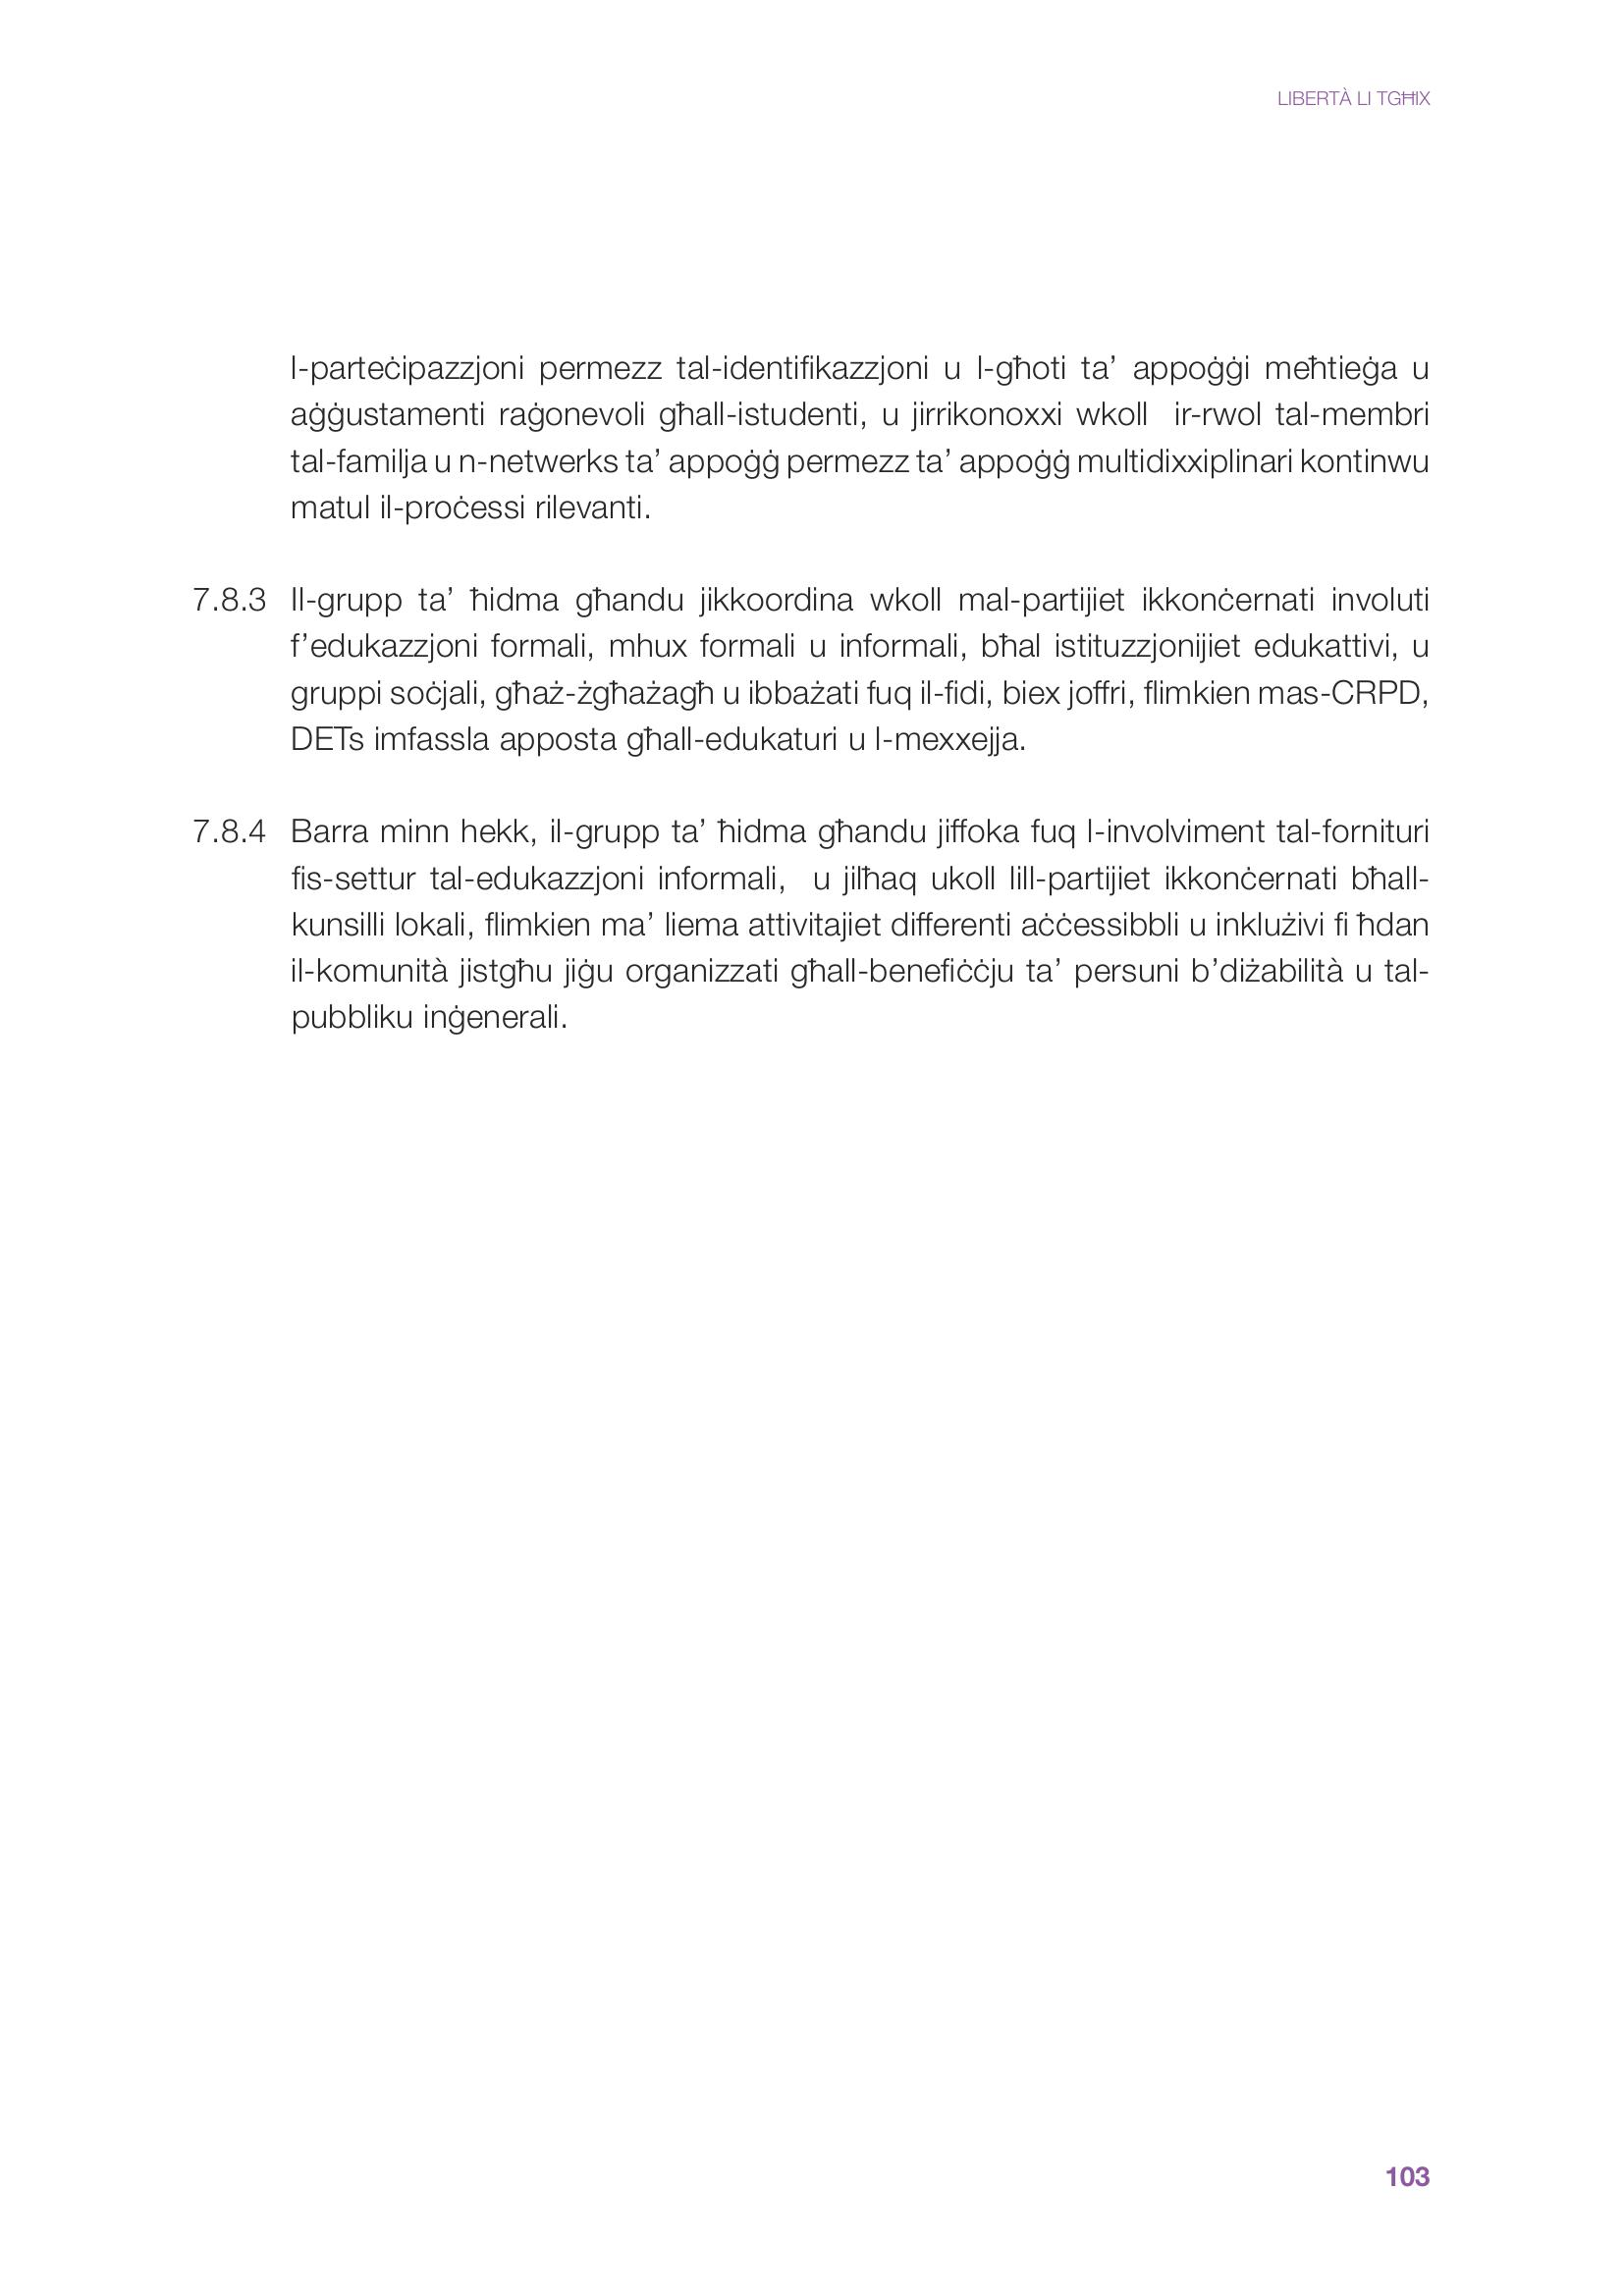text: (169, 329, 1469, 1101)
